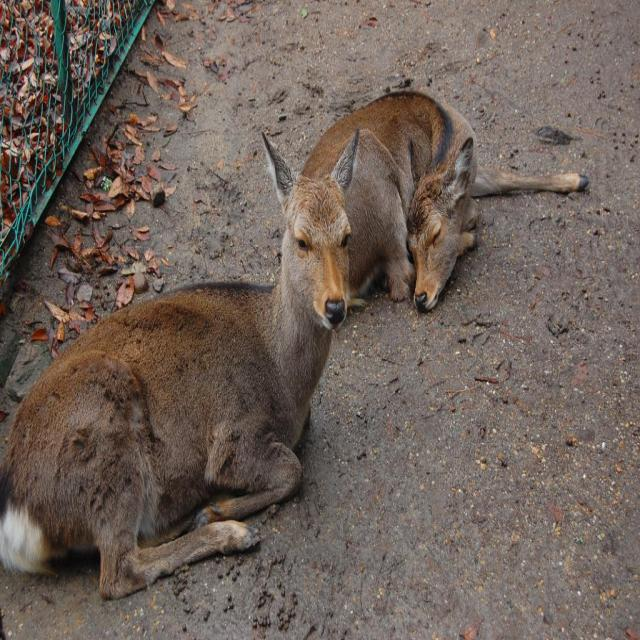Deer: (0, 128, 360, 602), (298, 90, 589, 312)
